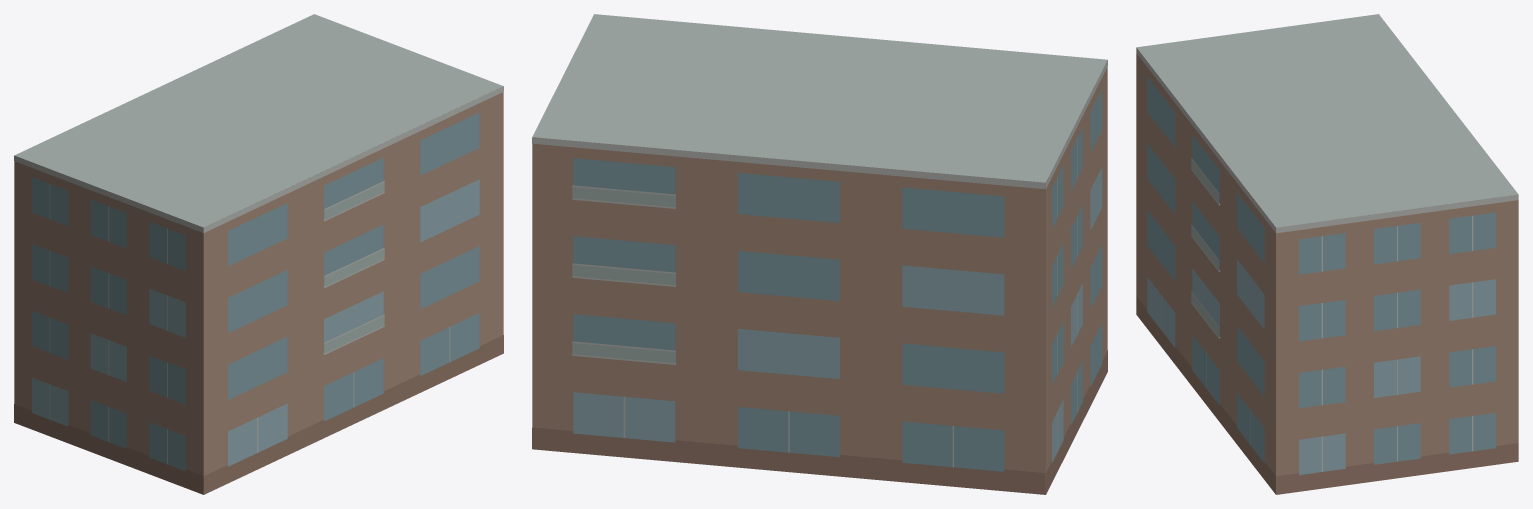
File: survey-upis-32721829.glb
3 renders of one model, left to right at view 1: azimuth 30°, elevation 25°; view 2: azimuth 150°, elevation 25°; view 3: azimuth 270°, elevation 25°, orthographic. The views are drawn at different scales.
Visible parts, largest first — view 1: survey-upis-32721829.tmp; view 2: survey-upis-32721829.tmp; view 3: survey-upis-32721829.tmp.
Part boxes in pixels (left/top/right/bottom): survey-upis-32721829.tmp: left=14, top=14, right=503, bottom=494; survey-upis-32721829.tmp: left=532, top=14, right=1107, bottom=494; survey-upis-32721829.tmp: left=1136, top=14, right=1518, bottom=494.
Bounding box in the file's own units: 20.05 × 11.68 × 15.16.
